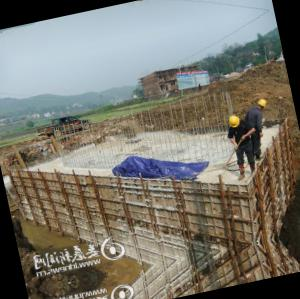helmet: (227, 112, 245, 131), (254, 96, 270, 113)
